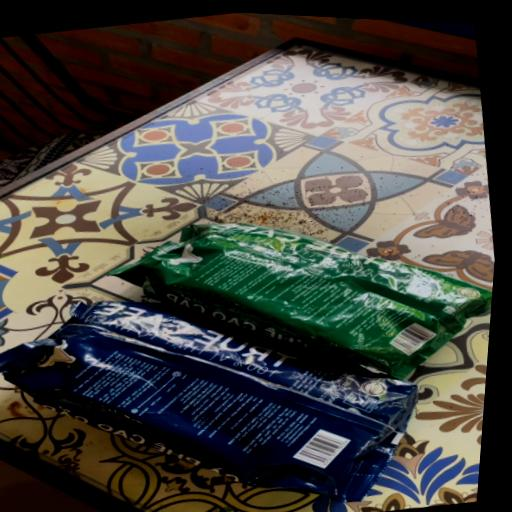cafe_hat: (0, 300, 417, 501)
cafe_xay: (110, 222, 492, 378)
